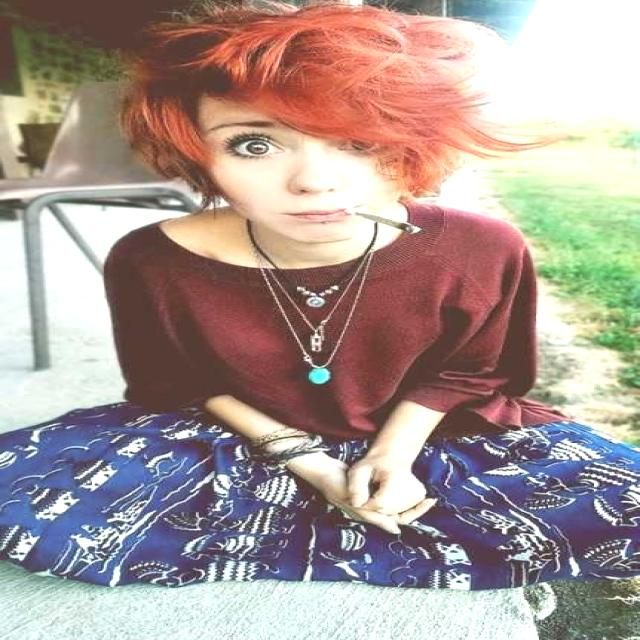Smooking: (342, 207, 434, 250)
